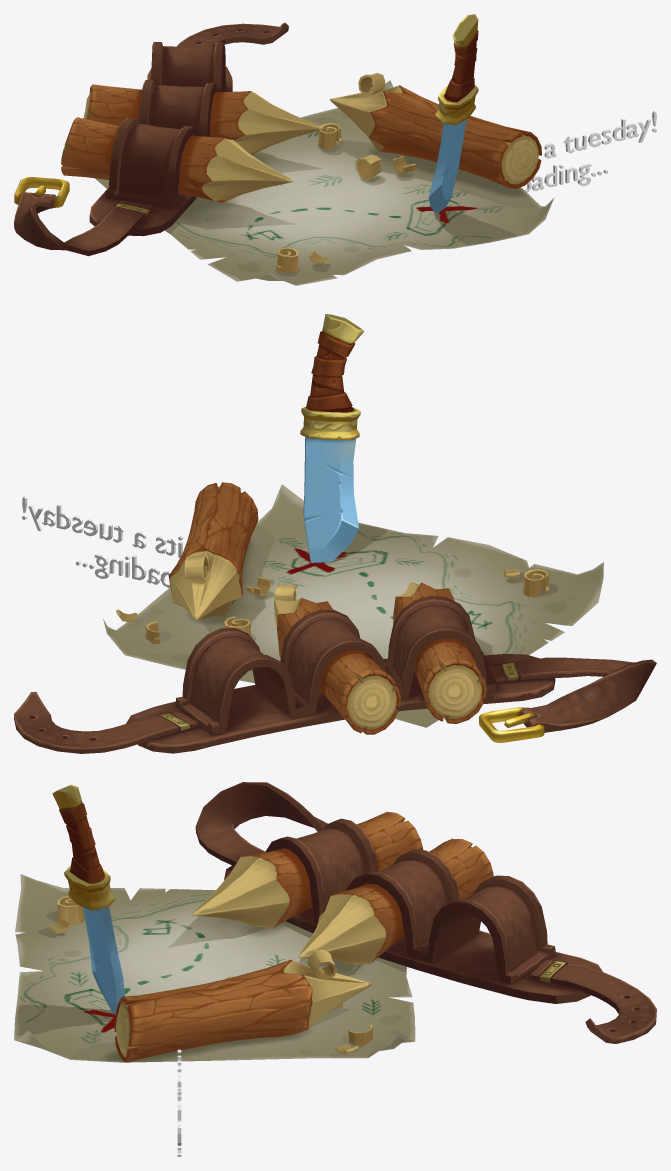
File: tuesdayloading.gltf
The picture shows the model from 3 angles, top to bottom: view 1: azimuth 30°, elevation 25°; view 2: azimuth 150°, elevation 25°; view 3: azimuth 270°, elevation 25°; orthographic projection. The views are drawn at different scales.
Parts seen in each view (by area): view 1: Mesh_0, Text.001; view 2: Mesh_0, Text.001; view 3: Mesh_0.
Part boxes in pixels (bbox=[...]): Mesh_0: bbox=[14, 14, 553, 285]; Text.001: bbox=[524, 111, 656, 192]; Mesh_0: bbox=[14, 314, 656, 753]; Text.001: bbox=[22, 496, 183, 587]; Mesh_0: bbox=[14, 782, 656, 1062].
Bounding box in the file's own units: 21.09 × 8.26 × 17.42.
Materials: 2 (1 with a texture image).
